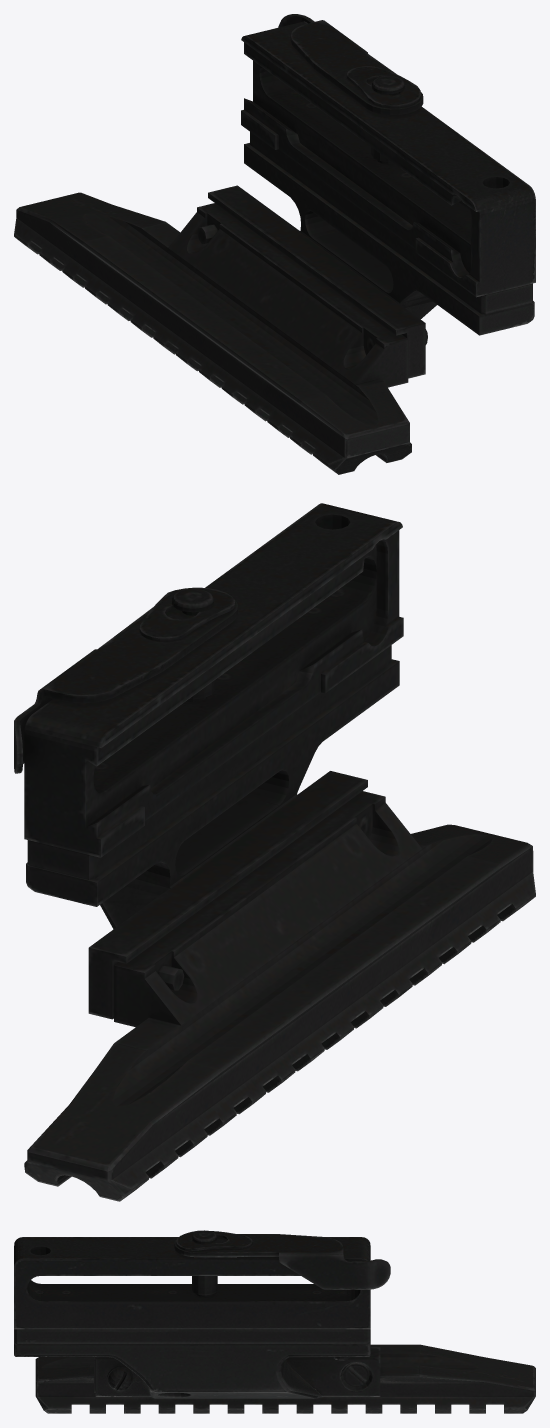
3 views of the same model, one above another, from view 1: azimuth 30°, elevation 25°; view 2: azimuth 150°, elevation 25°; view 3: azimuth 270°, elevation 25° (orthographic). The views are drawn at different scales.
Parts seen in each view (by area): view 1: TW_609a4b4fe2ff132951242d04_PZ_Import; view 2: TW_609a4b4fe2ff132951242d04_PZ_Import; view 3: TW_609a4b4fe2ff132951242d04_PZ_Import.
Part boxes in pixels (<box>): TW_609a4b4fe2ff132951242d04_PZ_Import: <box>14,14,535,474</box>; TW_609a4b4fe2ff132951242d04_PZ_Import: <box>14,503,535,1201</box>; TW_609a4b4fe2ff132951242d04_PZ_Import: <box>14,1230,535,1413</box>.
Bounding box in the file's own units: 0.0284 × 0.0877 × 0.0393.
1 material, 1 textured.
